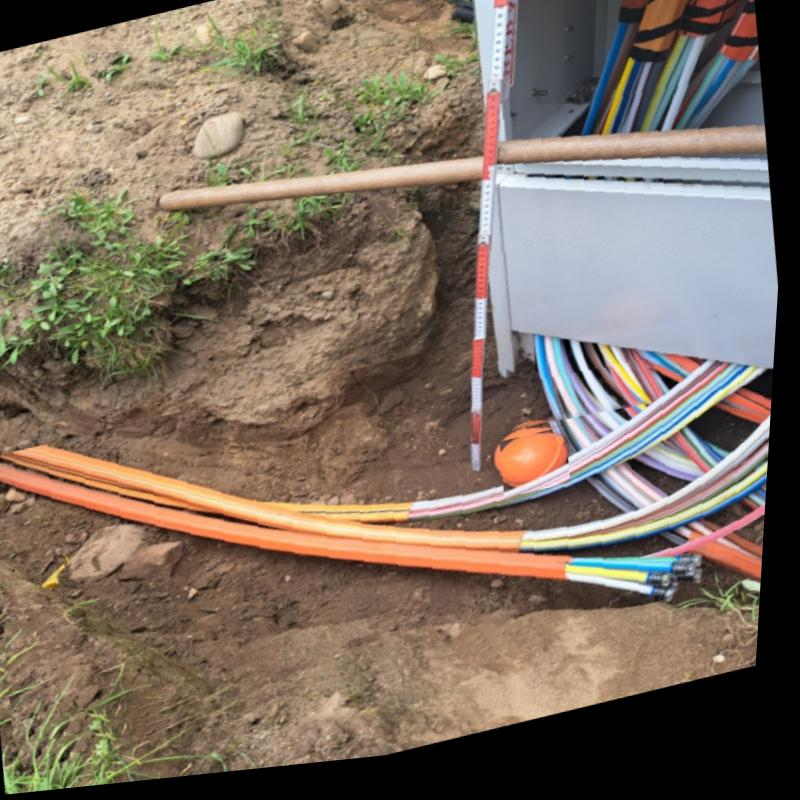Kugelmarker: (509, 448, 572, 507)
NT-Gehause: (472, 0, 783, 392)
Orang-Speednetrohrchen: (0, 404, 771, 615)
